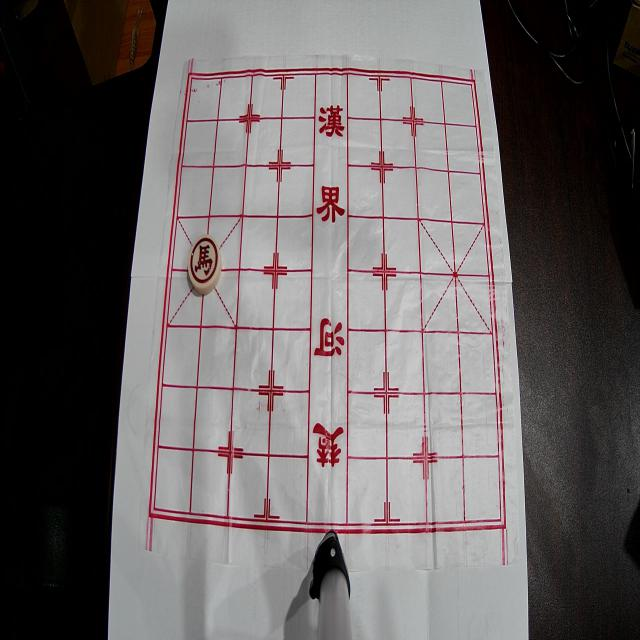red-horse: (188, 234, 222, 294)
